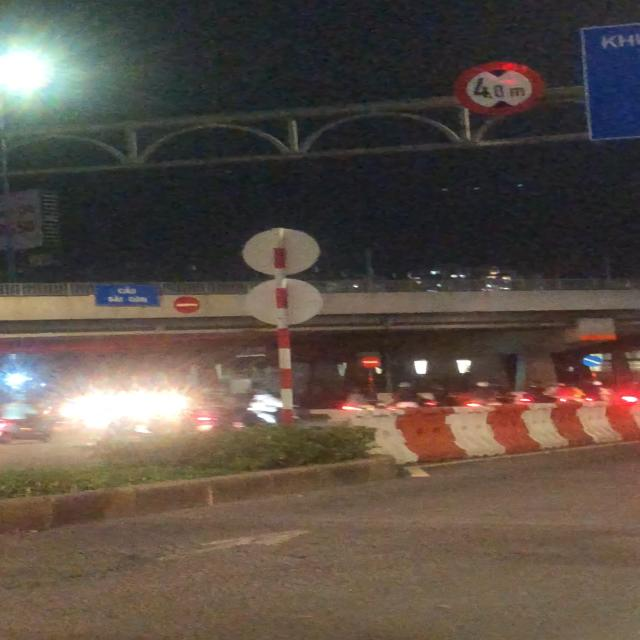Bien bao cam di nguoc chieu: (172, 295, 204, 315), (359, 354, 384, 369)
Bien bao han che chieu cao: (450, 56, 550, 117)
Bien bao huong phai di vong chuong ngai vat: (581, 354, 604, 368)
